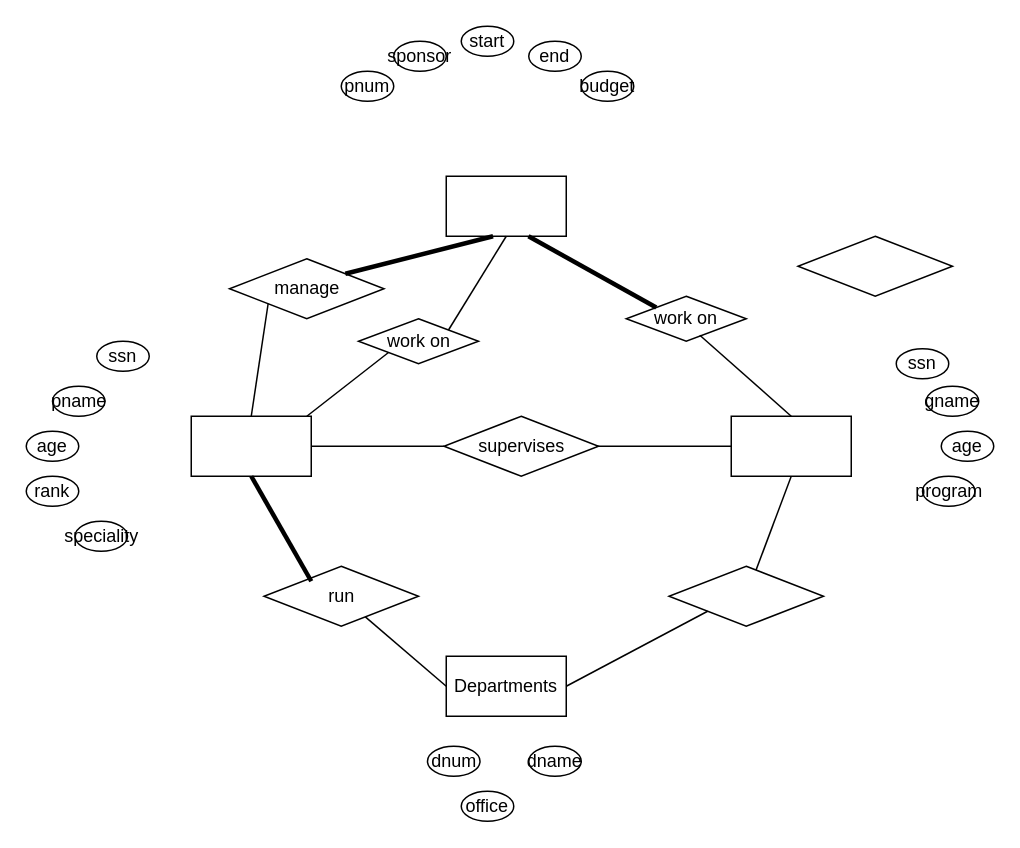
Some shapes in this 1020 by 848 pixel diagram are drawn without their labels. The shapes that lost their labels are listed below. From the top down, each one's box as (x1, y1, x2, y2) in pixels, then its label:
(445, 175, 566, 236): Projects
(796, 235, 952, 296): advises
(190, 415, 311, 476): Professors
(730, 415, 851, 476): Graduate Students
(668, 565, 824, 626): has a degree in
